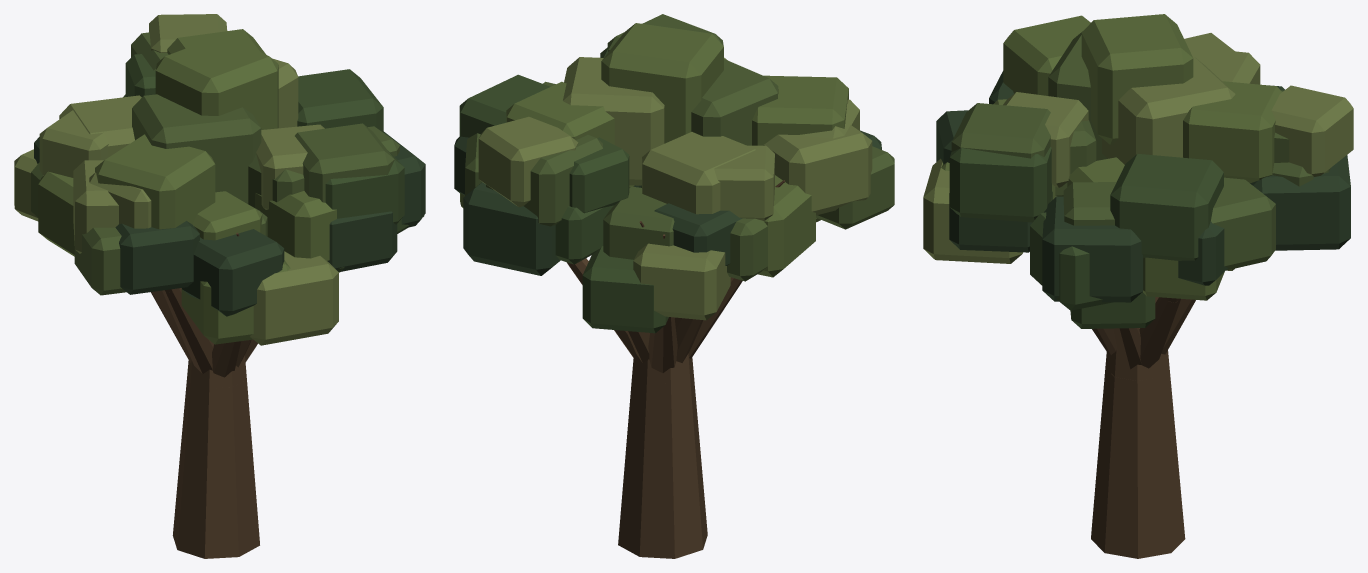
File: oak_mature.glb
3 renders of one model, left to right at view 1: azimuth 30°, elevation 25°; view 2: azimuth 150°, elevation 25°; view 3: azimuth 270°, elevation 25°, orthographic. The views are drawn at different scales.
Visible parts, largest first — view 1: oak_mature; view 2: oak_mature; view 3: oak_mature.
Part boxes in pixels (bbox=[...]): oak_mature: bbox=[14, 14, 425, 558]; oak_mature: bbox=[454, 14, 894, 558]; oak_mature: bbox=[923, 14, 1353, 558].
Size of the model in its own units: 12.88 by 17 by 13.13.
